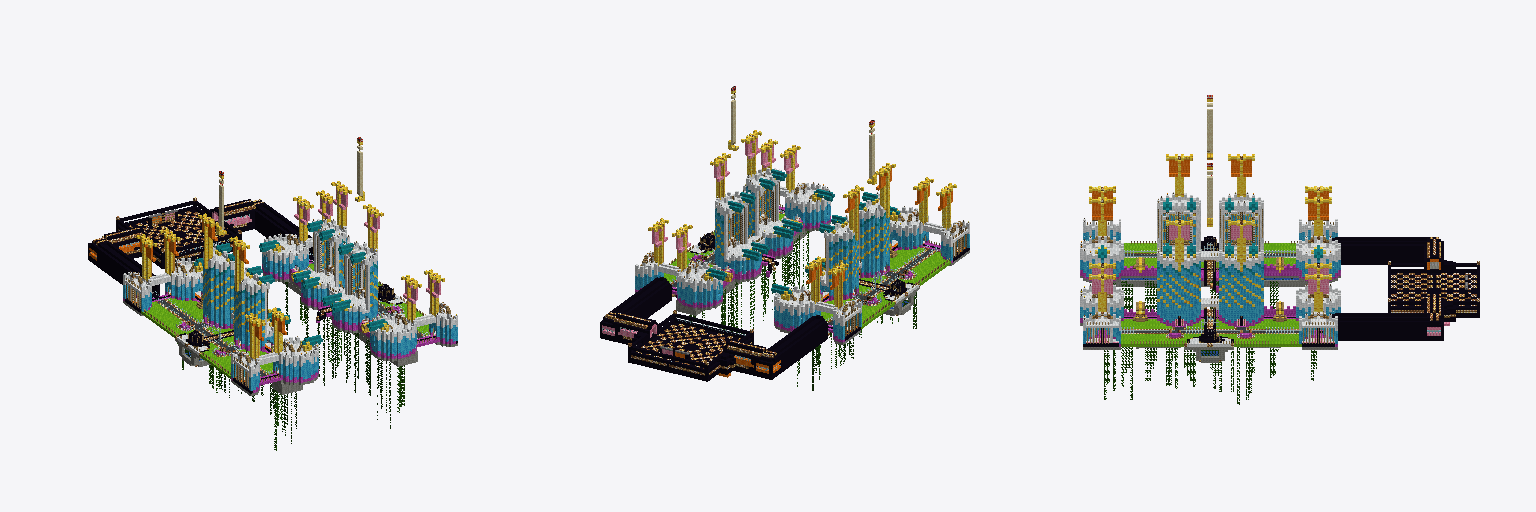
The picture shows the model from 3 angles: view 1: azimuth 30°, elevation 25°; view 2: azimuth 150°, elevation 25°; view 3: azimuth 270°, elevation 25°; orthographic projection.
Size of the model in its own units: 810 by 940 by 1350.
Materials: 42 (41 with a texture image).